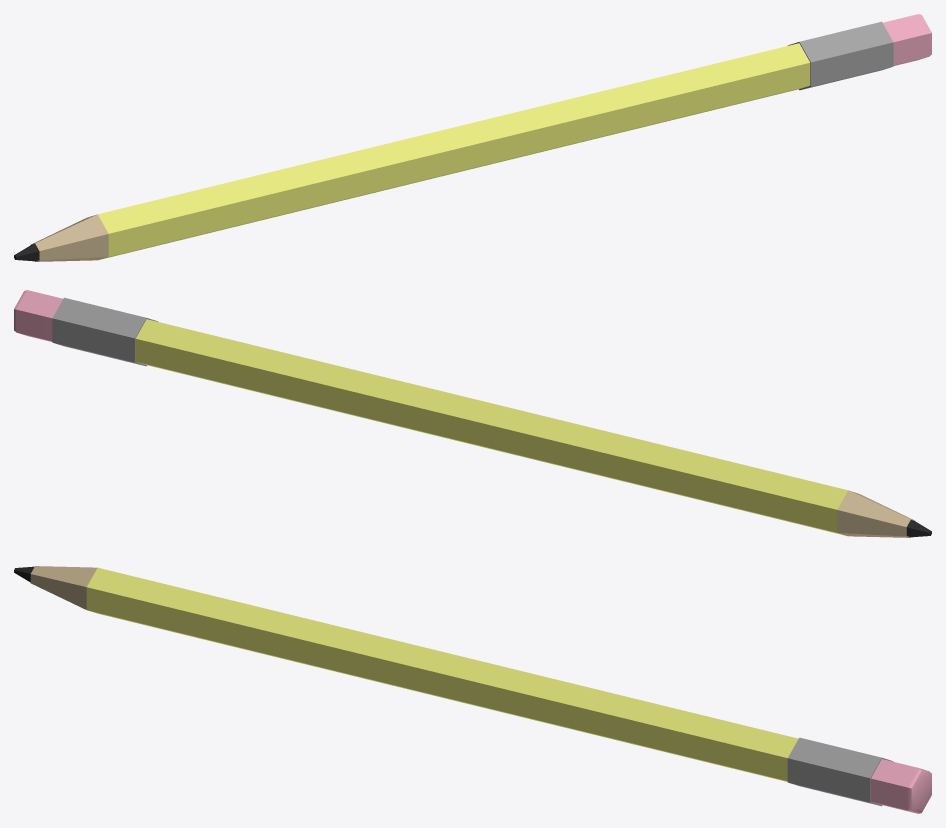
File: Pencil.fbx
3 renders of one model, top to bottom at view 1: azimuth 30°, elevation 25°; view 2: azimuth 150°, elevation 25°; view 3: azimuth 330°, elevation 25°, orthographic.
Visible parts, largest first — view 1: Pencil; view 2: Pencil; view 3: Pencil.
Boxes of the visible parts, box(x1,y1,x2,y2) form: Pencil: box(14, 14, 931, 261); Pencil: box(14, 290, 931, 537); Pencil: box(14, 566, 931, 813).
Size of the model in its own units: 8.25 by 0.4231 by 0.3664.
